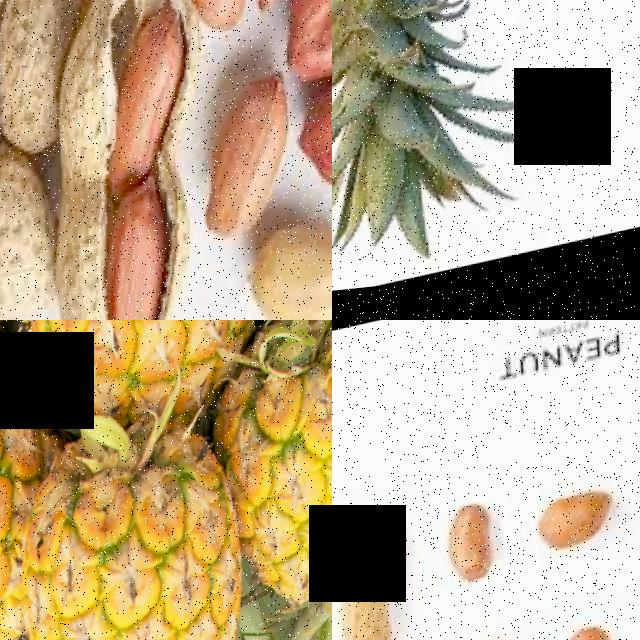peanuts: (95, 6, 209, 190), (198, 80, 309, 253), (0, 140, 78, 320), (94, 182, 187, 320), (332, 497, 420, 640), (530, 485, 626, 572), (438, 496, 507, 597), (292, 59, 332, 211), (154, 0, 262, 50), (279, 0, 332, 90), (560, 625, 623, 640)
pineapple: (1, 406, 278, 640), (214, 326, 332, 640), (0, 320, 287, 446), (0, 352, 54, 640)
